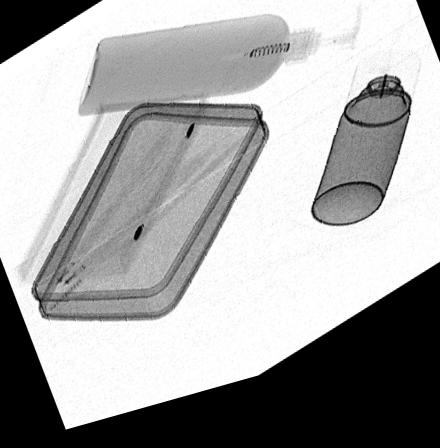Sprayer: (309, 72, 421, 244)
